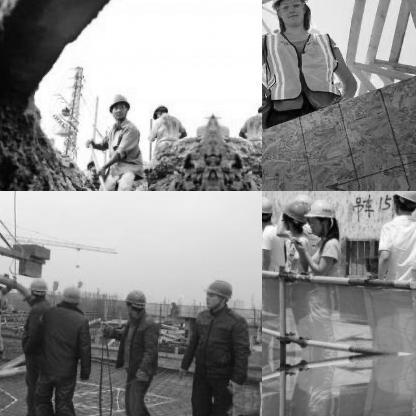Helmet: (265, 0, 310, 29), (306, 196, 336, 234), (200, 275, 234, 308), (283, 195, 308, 230), (106, 88, 128, 124), (122, 285, 146, 317), (148, 98, 170, 126), (390, 191, 415, 214), (58, 280, 80, 306), (28, 275, 48, 299), (262, 191, 272, 223), (252, 97, 261, 127)
